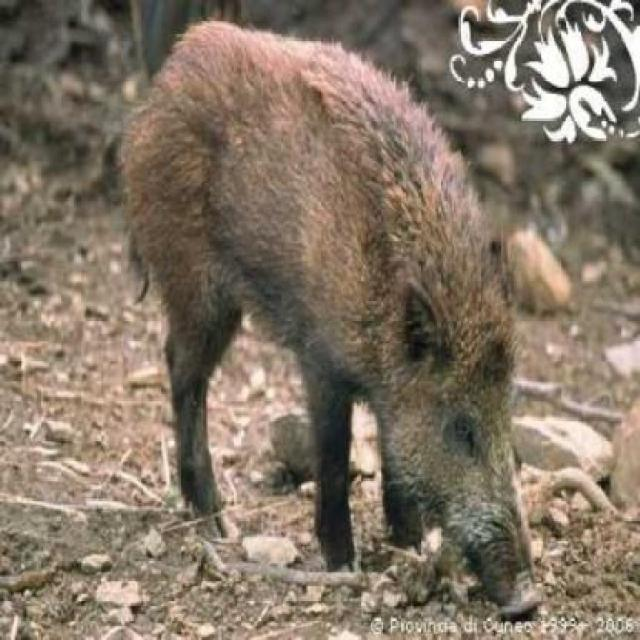pig: (152, 46, 566, 596)
